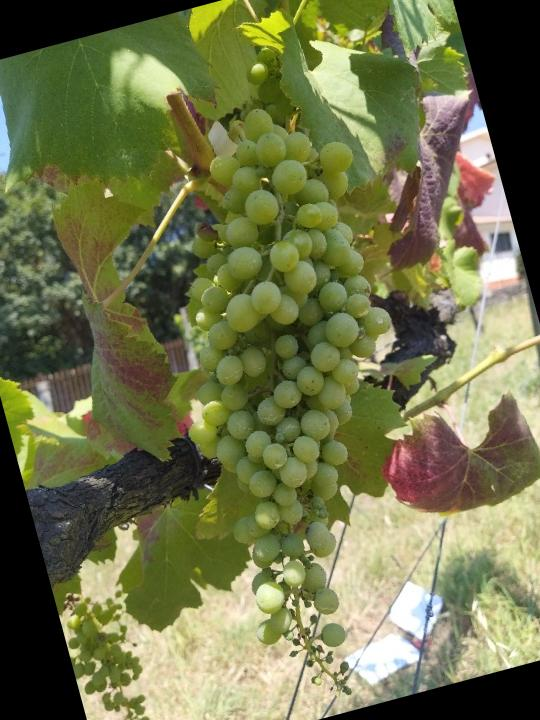grape: (96, 32, 485, 720), (58, 581, 177, 720)
